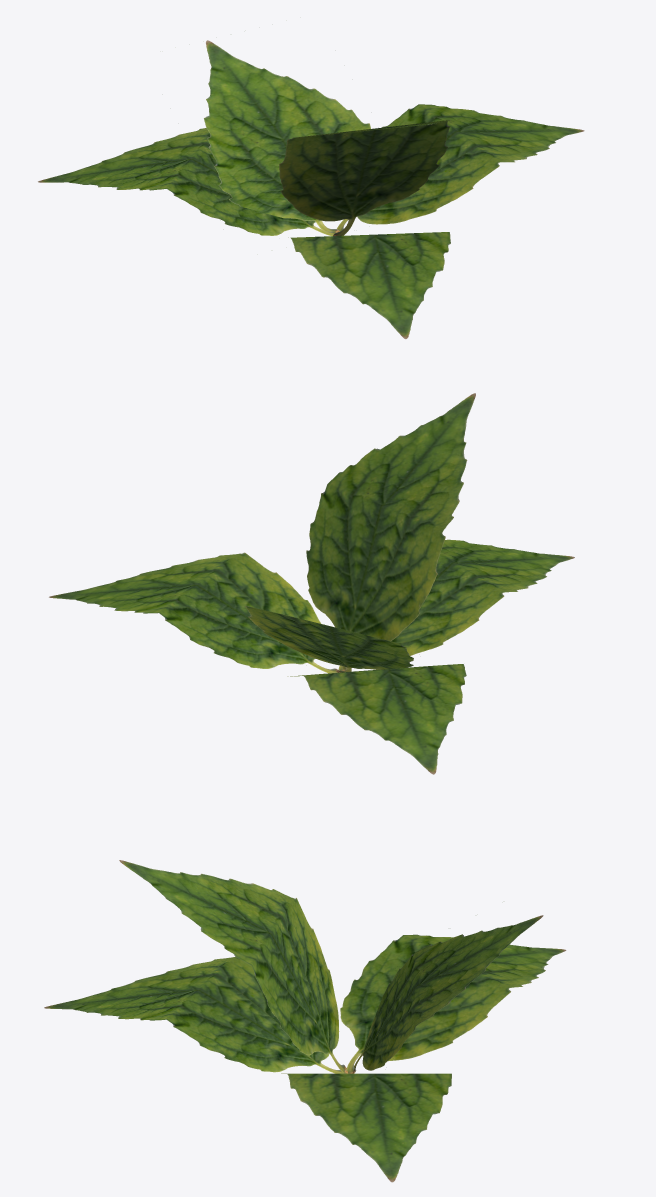
The model's file is detail plant6.FBX.
The picture shows the model from 3 angles, top to bottom: view 1: azimuth 30°, elevation 25°; view 2: azimuth 150°, elevation 25°; view 3: azimuth 270°, elevation 25°; orthographic projection. The views are drawn at different scales.
Parts seen in each view (by area): view 1: detail plant6; view 2: detail plant6; view 3: detail plant6.
Part boxes in pixels (x1,y1,x2,y2): detail plant6: [38, 40, 584, 339]; detail plant6: [49, 393, 574, 774]; detail plant6: [44, 860, 566, 1182].
Size of the model in its own units: 2.97 by 1.11 by 3.09.
